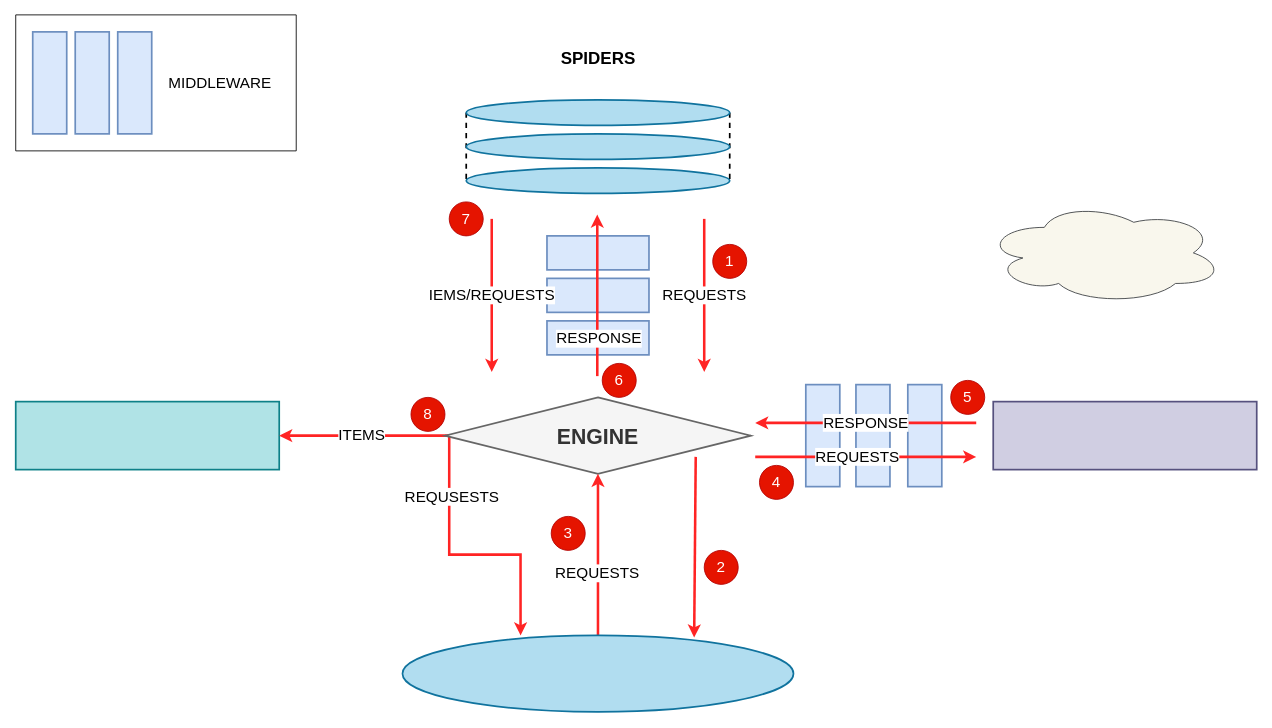
Some shapes in this 1272 by 728 pixel diagram are drawn without their labels. Here are the shapes that lost their labels. From the top down, the centre of each, then its label:
At point 1103,252: "INTERNET".
At point 147,435: "ITEM PIPELINES".
At point 1124,435: "DOWNLOADER".
At point 597,673: "SCHEDULER".
